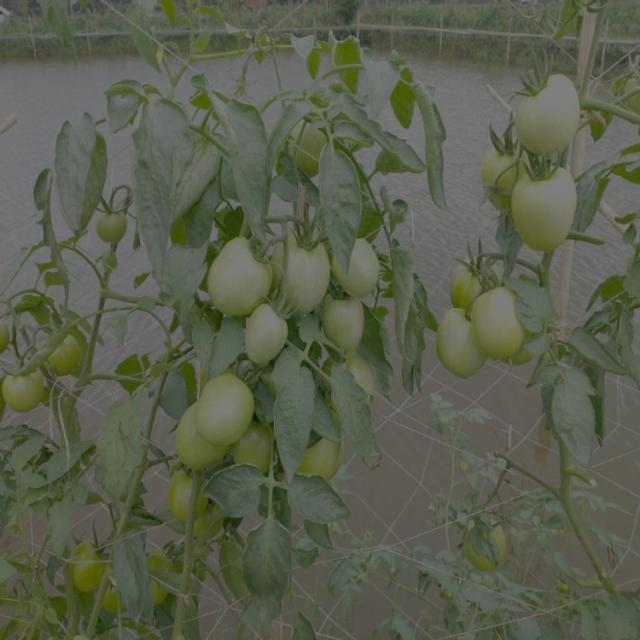tomato: (511, 58, 587, 154), (517, 160, 587, 251), (206, 231, 272, 314), (476, 286, 532, 365), (197, 372, 257, 442), (431, 306, 488, 379), (332, 233, 392, 302), (282, 227, 332, 307), (243, 300, 294, 373), (460, 511, 513, 574), (323, 294, 371, 361), (285, 112, 332, 178), (63, 536, 112, 593), (291, 431, 342, 483), (449, 250, 494, 303), (170, 412, 214, 465), (136, 546, 175, 604), (339, 360, 384, 407), (4, 367, 47, 416), (91, 205, 135, 248), (485, 145, 515, 204), (169, 470, 203, 521), (45, 330, 85, 373), (239, 430, 272, 476), (102, 585, 127, 625), (1, 319, 19, 357)
